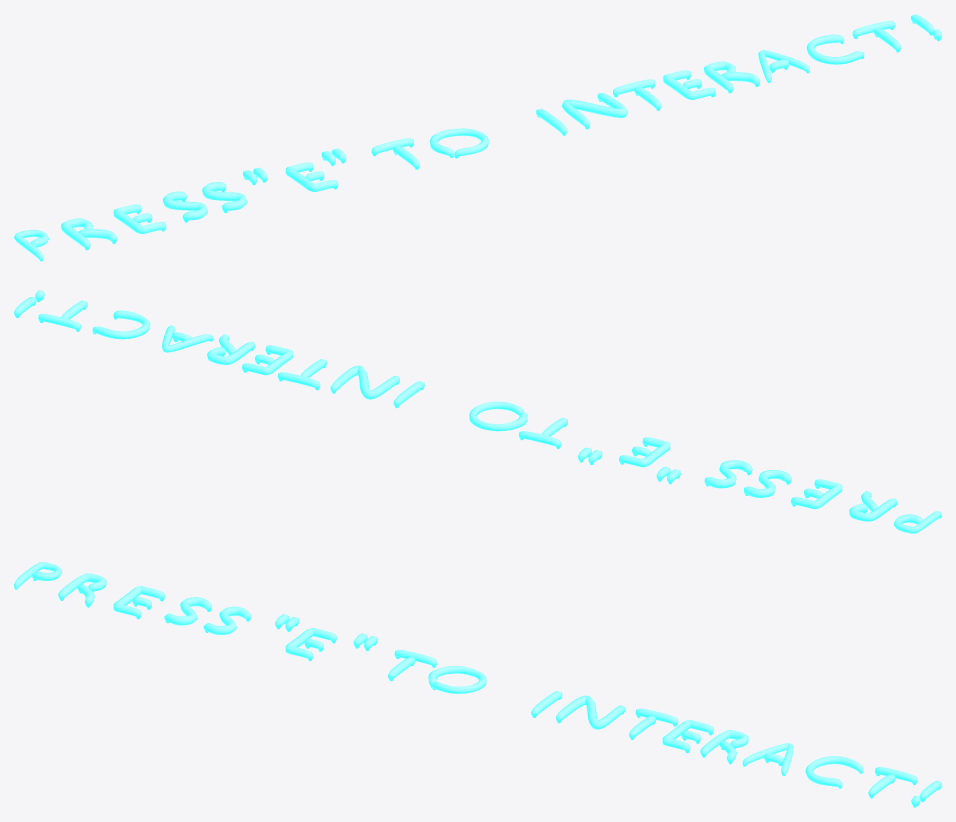
Rendered from pressinterract.fbx.
3 views of the same model, one above another, from view 1: azimuth 30°, elevation 25°; view 2: azimuth 150°, elevation 25°; view 3: azimuth 330°, elevation 25° (orthographic).
Visible parts, largest first — view 1: neon_letter_n, neon_letter_o, neon_letter_r.001, neon_letter_r, neon_letter_e, neon_letter_e.001, neon_letter_e.002, neon_letter_c, neon_letter_s, neon_letter_s.001, neon_letter_a, neon_letter_t.001 (+3 smaller); view 2: neon_letter_o, neon_letter_n, neon_letter_e, neon_letter_e.001, neon_letter_e.002, neon_letter_c, neon_letter_r, neon_letter_r.001, neon_letter_a, neon_letter_s.001, neon_letter_s, neon_letter_t.001 (+3 smaller); view 3: neon_letter_o, neon_letter_n, neon_letter_e.001, neon_letter_e.002, neon_letter_e, neon_letter_c, neon_letter_r.001, neon_letter_r, neon_letter_a, neon_letter_s, neon_letter_s.001, neon_letter_p (+3 smaller).
Part boxes in pixels (box(x1,y1,x2,y2)): neon_letter_n: box(562, 93, 627, 129); neon_letter_o: box(430, 128, 488, 158); neon_letter_r.001: box(704, 61, 760, 93); neon_letter_r: box(61, 218, 117, 250); neon_letter_e: box(113, 204, 166, 233); neon_letter_e.001: box(285, 162, 338, 191); neon_letter_e.002: box(663, 70, 715, 99); neon_letter_c: box(806, 34, 864, 64); neon_letter_s: box(163, 191, 207, 222); neon_letter_s.001: box(202, 182, 246, 212); neon_letter_a: box(758, 50, 809, 82); neon_letter_t.001: box(613, 79, 661, 110); neon_letter_o: box(469, 401, 527, 431); neon_letter_n: box(330, 365, 399, 399); neon_letter_e: box(791, 479, 842, 509); neon_letter_e.001: box(619, 437, 670, 467); neon_letter_e.002: box(242, 345, 293, 375); neon_letter_c: box(92, 310, 150, 339); neon_letter_r: box(849, 491, 897, 521); neon_letter_r.001: box(207, 334, 255, 364); neon_letter_a: box(162, 325, 213, 352); neon_letter_s.001: box(704, 460, 752, 488); neon_letter_s: box(744, 470, 791, 497); neon_letter_t.001: box(277, 359, 326, 390); neon_letter_o: box(428, 666, 486, 693); neon_letter_n: box(556, 695, 625, 729); neon_letter_e.001: box(285, 628, 336, 661); neon_letter_e.002: box(662, 720, 713, 753); neon_letter_e: box(113, 586, 164, 619); neon_letter_c: box(805, 756, 863, 788); neon_letter_r.001: box(700, 730, 748, 764); neon_letter_r: box(58, 573, 106, 607); neon_letter_a: box(742, 743, 793, 775); neon_letter_s: box(164, 597, 211, 625); neon_letter_s.001: box(203, 606, 251, 634); neon_letter_p: box(14, 562, 62, 589).
Size of the model in its own units: 1611 by 17.12 by 115.
